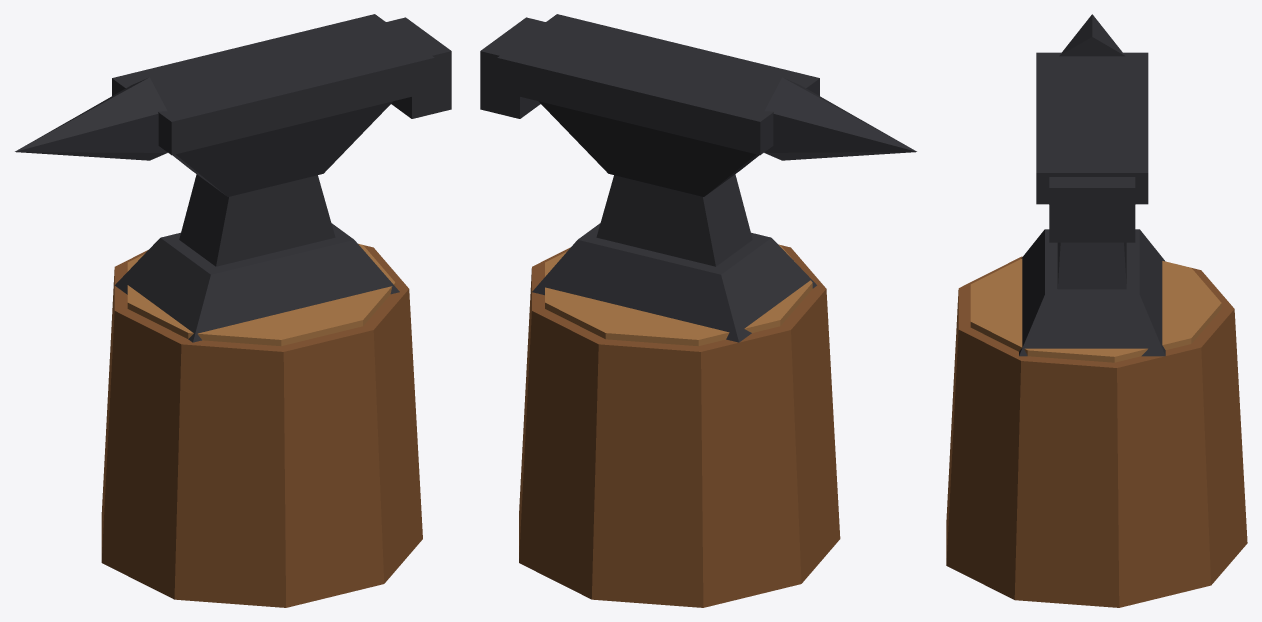
File: Anvil.fbx
The picture shows the model from 3 angles, left to right: view 1: azimuth 30°, elevation 25°; view 2: azimuth 150°, elevation 25°; view 3: azimuth 270°, elevation 25°; orthographic projection. The views are drawn at different scales.
Parts seen in each view (by area): view 1: Anvil; view 2: Anvil; view 3: Anvil.
Boxes of the visible parts, bbox=[...] form: Anvil: bbox=[15, 14, 451, 607]; Anvil: bbox=[480, 14, 916, 607]; Anvil: bbox=[946, 14, 1247, 607].
Bounding box in the file's own units: 1.04 × 1.17 × 0.6983.
